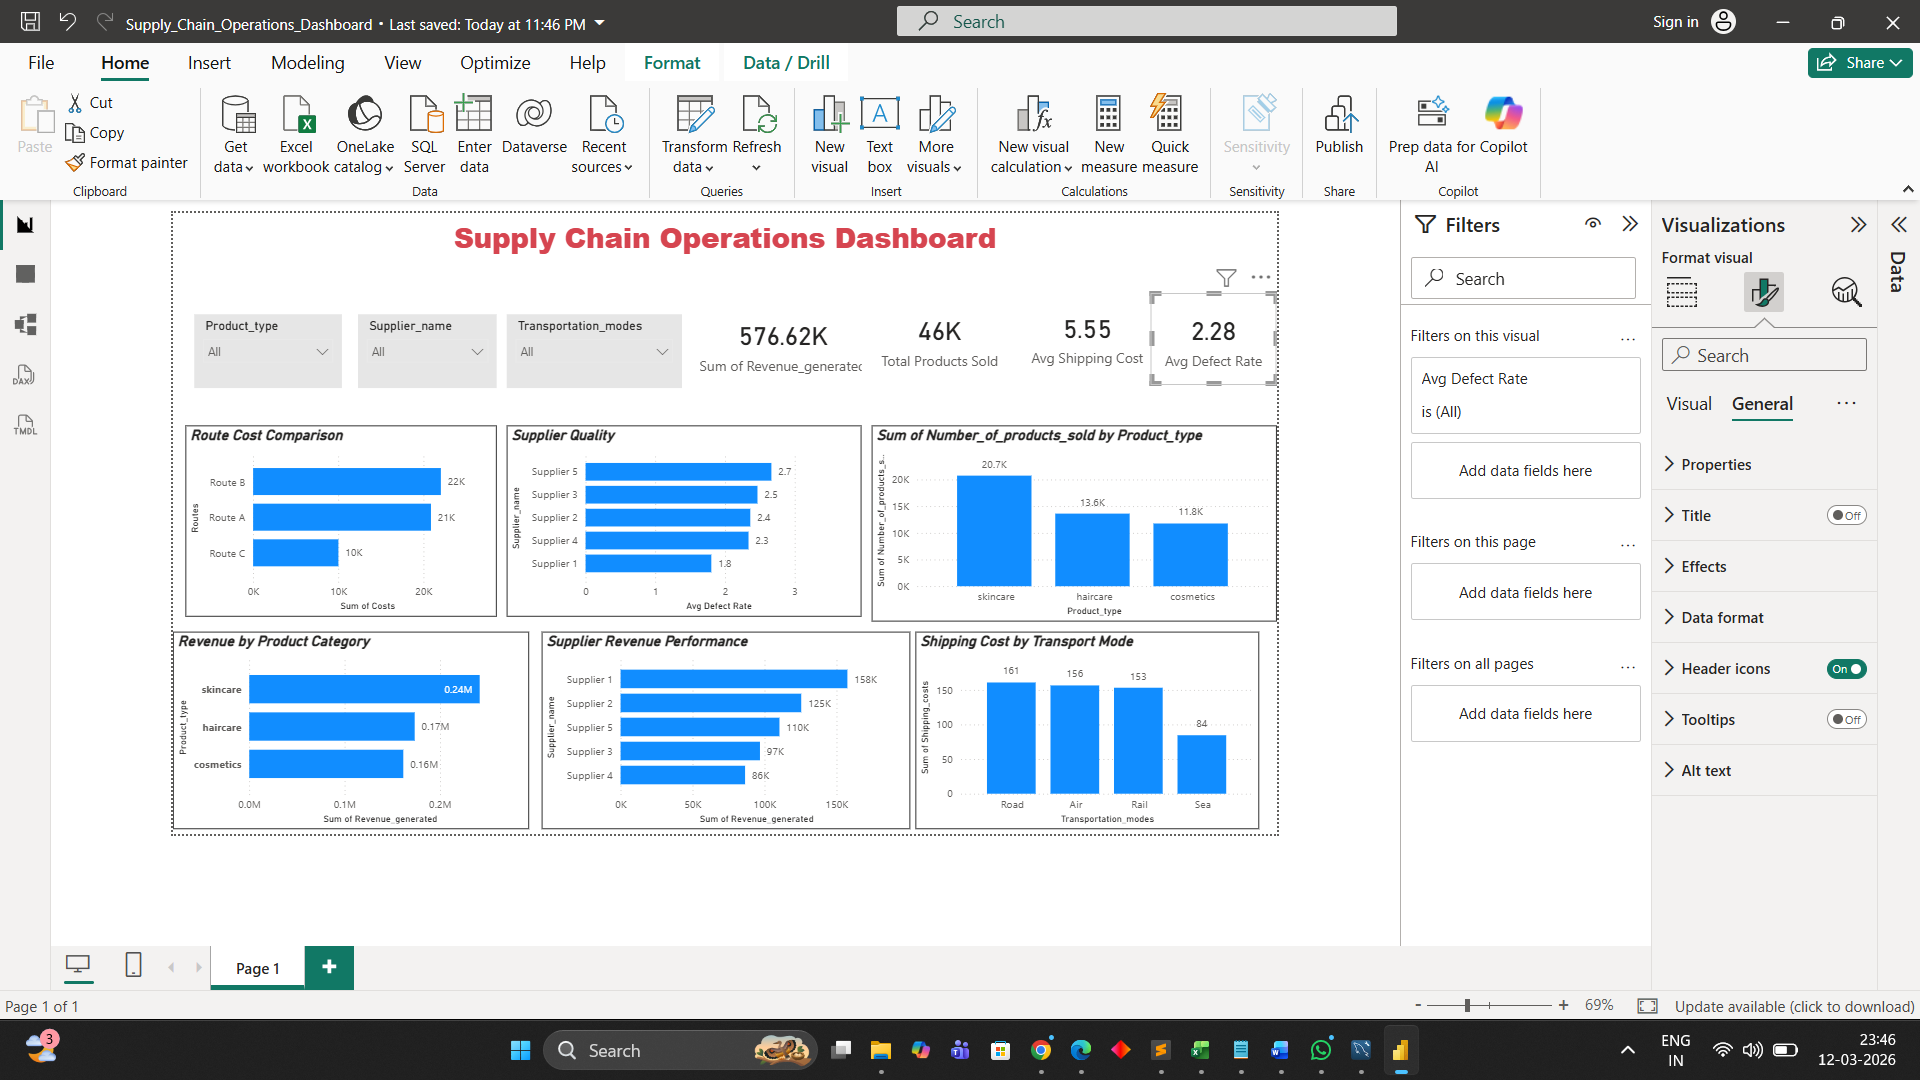

Layout of this report page (visuals, bound fields, positions):
{"tool":"powerbi","page":{"name":"Page 1","canvas":[1280,720],"ordinal":0},"visuals":[{"type":"clusteredBarChart","title":"Revenue by Product Category","fields":{"Y":["Sum(supply_chain_project clean_supply_chain_data.Revenue_generated)"],"Category":["supply_chain_project clean_supply_chain_data.Product_type"]},"box":[0,485.5,413,229],"z":1},{"type":"clusteredBarChart","title":"Supplier Revenue Performance","fields":{"Category":["supply_chain_project clean_supply_chain_data.Supplier_name"],"Y":["Sum(supply_chain_project clean_supply_chain_data.Revenue_generated)"]},"box":[427.5,485.5,427.5,229],"z":2},{"type":"clusteredColumnChart","title":"Shipping Cost by Transport Mode","fields":{"Category":["supply_chain_project clean_supply_chain_data.Transportation_modes"],"Y":["Sum(supply_chain_project clean_supply_chain_data.Shipping_costs)"]},"box":[860.9,485.5,398.6,229],"z":3},{"type":"clusteredBarChart","title":"Route Cost Comparison","fields":{"Y":["Sum(supply_chain_project clean_supply_chain_data.Costs)"],"Category":["supply_chain_project clean_supply_chain_data.Routes"]},"box":[14.5,246.4,360.9,221.7],"z":4},{"type":"clusteredBarChart","title":"Supplier Quality","fields":{"Category":["supply_chain_project clean_supply_chain_data.Supplier_name"],"Y":["supply_chain_project clean_supply_chain_data.Avg Defect Rate"]},"box":[387,246.4,411.6,221.7],"z":5},{"type":"columnChart","fields":{"Y":["Sum(supply_chain_project clean_supply_chain_data.Number_of_products_sold)"],"Category":["supply_chain_project clean_supply_chain_data.Product_type"]},"box":[810.1,246.4,469.6,227.5],"z":6},{"type":"slicer","fields":{"Values":["supply_chain_project clean_supply_chain_data.Product_type"]},"box":[24.6,117.4,171,85.5],"z":7},{"type":"slicer","fields":{"Values":["supply_chain_project clean_supply_chain_data.Supplier_name"]},"box":[214.5,117.4,160.9,85.5],"z":8},{"type":"slicer","fields":{"Values":["supply_chain_project clean_supply_chain_data.Transportation_modes"]},"box":[387,117.4,202.9,85.5],"z":9},{"type":"card","fields":{"Values":["Sum(supply_chain_project clean_supply_chain_data.Revenue_generated)"]},"box":[604.3,101.4,205.8,101.4],"z":10},{"type":"card","fields":{"Values":["supply_chain_project clean_supply_chain_data.Total Products Sold"]},"box":[798.6,95.7,181.2,101.4],"z":11},{"type":"card","fields":{"Values":["supply_chain_project clean_supply_chain_data.Avg Shipping Cost"]},"box":[968.1,95.7,184.1,95.7],"z":12},{"type":"card","fields":{"Values":["supply_chain_project clean_supply_chain_data.Avg Defect Rate"]},"box":[1133.3,92.8,146.4,107.2],"z":13},{"type":"textbox","box":[0,0,1279.7,63.8],"z":14}]}

Visuals, with their boxes on the page's 1280x720 design canvas (x1, y1, x2, y2). These are canvas units, not pixel positions in the 1920x1080 screenshot, which may show the page scaled, cropped or inside an application window:
"Revenue by Product Category" clusteredBarChart: [0,486,413,714]
"Supplier Revenue Performance" clusteredBarChart: [428,486,855,714]
"Shipping Cost by Transport Mode" clusteredColumnChart: [861,486,1260,714]
"Route Cost Comparison" clusteredBarChart: [14,246,375,468]
"Supplier Quality" clusteredBarChart: [387,246,799,468]
columnChart - Sum(supply_chain_project clean_supply_chain_data.Number_of_products_sold) x supply_chain_project clean_supply_chain_data.Product_type: [810,246,1280,474]
slicer - supply_chain_project clean_supply_chain_data.Product_type: [25,117,196,203]
slicer - supply_chain_project clean_supply_chain_data.Supplier_name: [214,117,375,203]
slicer - supply_chain_project clean_supply_chain_data.Transportation_modes: [387,117,590,203]
card - Sum(supply_chain_project clean_supply_chain_data.Revenue_generated): [604,101,810,203]
card - supply_chain_project clean_supply_chain_data.Total Products Sold: [799,96,980,197]
card - supply_chain_project clean_supply_chain_data.Avg Shipping Cost: [968,96,1152,191]
card - supply_chain_project clean_supply_chain_data.Avg Defect Rate: [1133,93,1280,200]
textbox: [0,0,1280,64]
